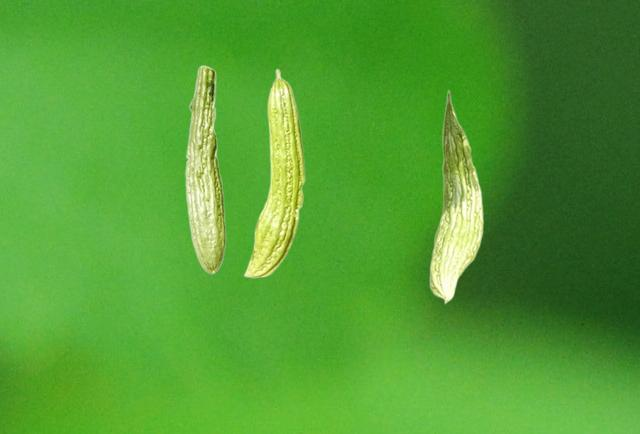ampalaya: (242, 68, 307, 279), (427, 89, 485, 305), (183, 64, 228, 274)
